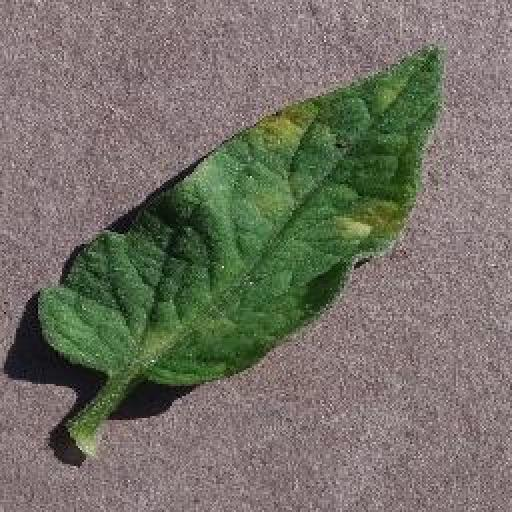disease_tomato: (35, 47, 450, 385)
